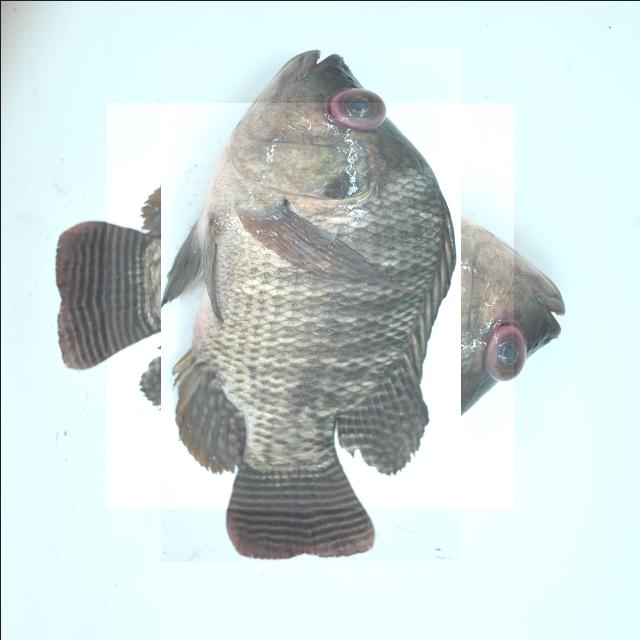streptococcus Disease: (106, 102, 513, 508)
